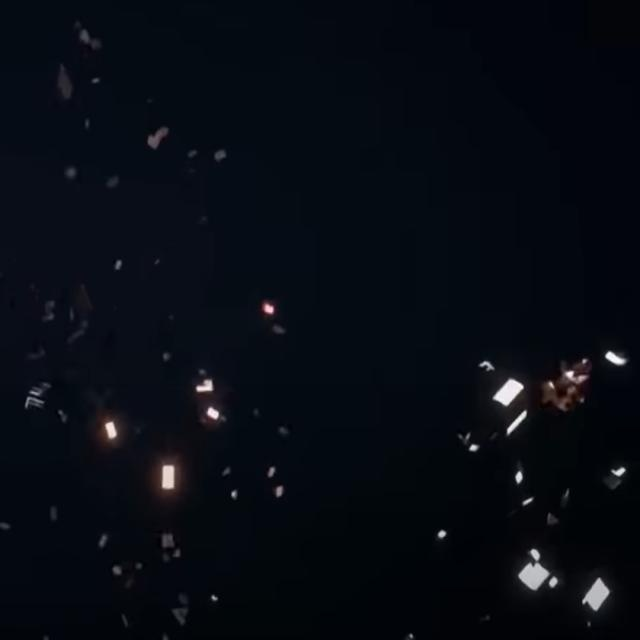large_debris: (540, 350, 599, 423), (515, 542, 567, 597), (574, 565, 617, 619), (488, 372, 532, 417), (18, 375, 56, 423), (51, 55, 77, 113), (500, 405, 532, 443), (601, 461, 633, 498), (142, 120, 173, 155), (156, 457, 180, 501), (600, 344, 632, 372), (192, 370, 216, 403), (155, 527, 179, 557), (201, 405, 229, 427), (101, 416, 120, 448), (259, 299, 277, 322), (510, 467, 529, 487), (263, 464, 281, 484), (434, 524, 451, 545), (273, 482, 288, 505), (544, 509, 561, 529)
